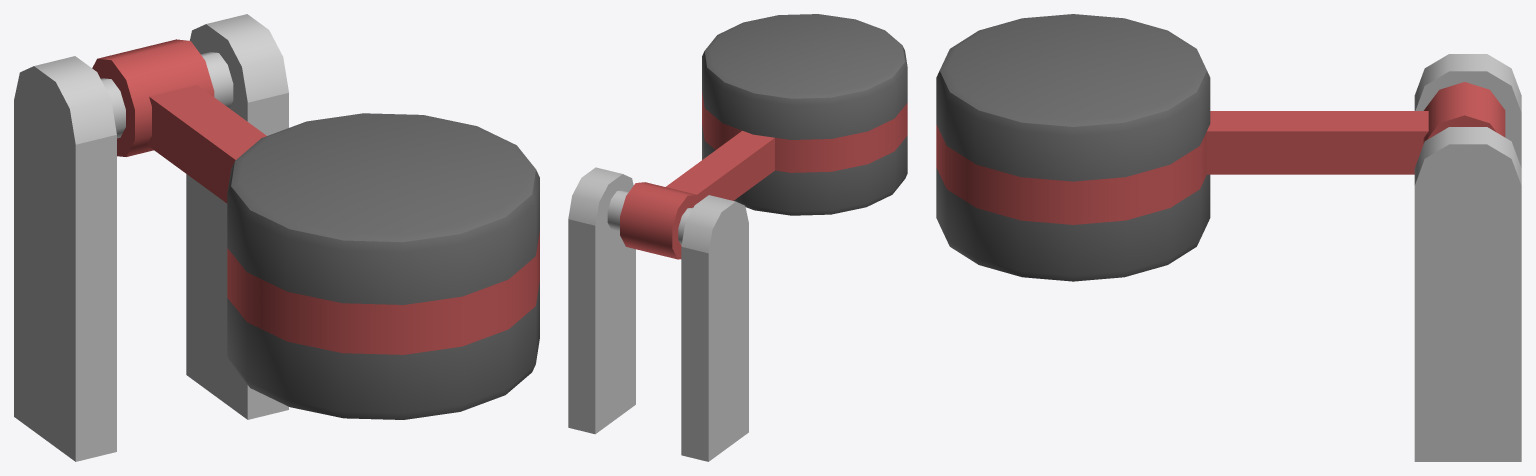
File: Hammer.fbx
3 views of the same model, side by side, from view 1: azimuth 30°, elevation 25°; view 2: azimuth 150°, elevation 25°; view 3: azimuth 270°, elevation 25° (orthographic). The views are drawn at different scales.
Parts seen in each view (by area): view 1: Stick, Basis, Hammer; view 2: Stick, Basis, Hammer; view 3: Stick, Basis, Hammer.
Boxes of the visible parts, left/top/right/bottom form: Stick: left=92, top=39, right=539, bottom=419; Basis: left=14, top=92, right=288, bottom=461; Hammer: left=14, top=14, right=288, bottom=144; Stick: left=620, top=14, right=907, bottom=259; Basis: left=568, top=217, right=748, bottom=461; Hammer: left=568, top=167, right=748, bottom=253; Stick: left=936, top=14, right=1505, bottom=281; Basis: left=1414, top=113, right=1521, bottom=461; Hammer: left=1414, top=54, right=1521, bottom=186.
Size of the model in its own units: 476 by 673 by 1017.
